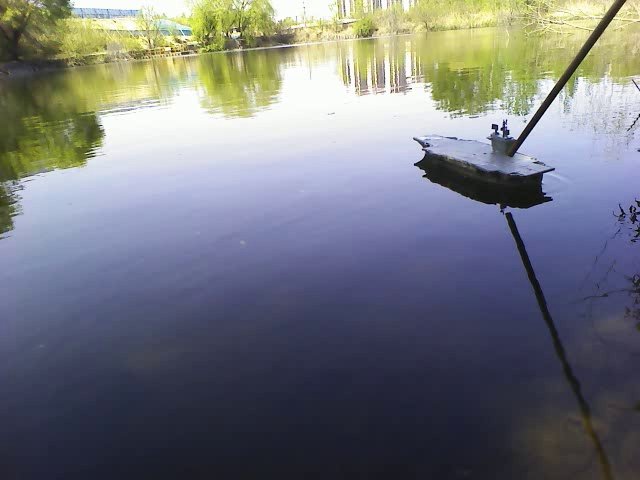aircraft_carrier: (410, 120, 558, 183)
